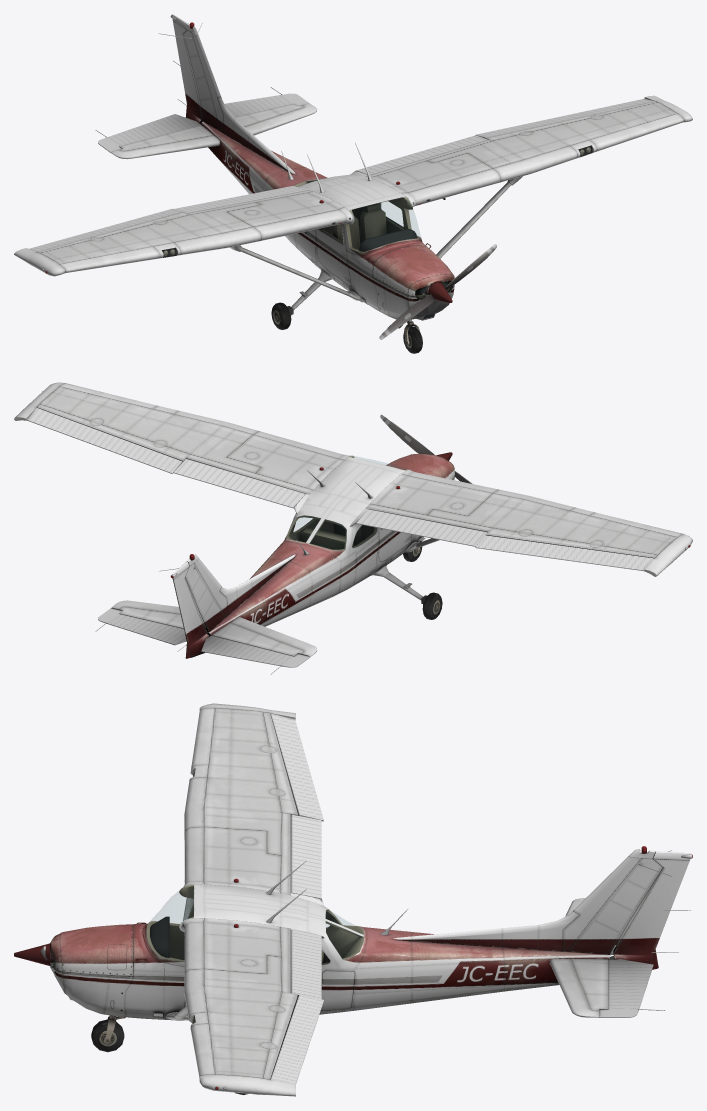
File: cessna-172.glb
3 views of the same model, one above another, from view 1: azimuth 30°, elevation 25°; view 2: azimuth 150°, elevation 25°; view 3: azimuth 270°, elevation 25° (orthographic). The views are drawn at different scales.
Visible parts, largest first — view 1: CESSNA172-BASE_LOD0, CESSNA172004, CESSNA172003, CESSNA172001, CESSNA172, cessna-propeller; view 2: CESSNA172-BASE_LOD0, CESSNA172001, CESSNA172003, CESSNA172004, CESSNA172, cessna-propeller; view 3: CESSNA172-BASE_LOD0, CESSNA172001, CESSNA172003, CESSNA172, CESSNA172004.
Boxes of the visible parts, x1=… form: CESSNA172-BASE_LOD0: x1=14, y1=22, x2=692, y2=353; CESSNA172004: x1=95, y1=87, x2=309, y2=152; CESSNA172003: x1=174, y1=135, x2=487, y2=212; CESSNA172001: x1=29, y1=98, x2=654, y2=251; CESSNA172: x1=170, y1=14, x2=202, y2=124; cessna-propeller: x1=379, y1=244, x2=496, y2=339; CESSNA172-BASE_LOD0: x1=14, y1=382, x2=692, y2=656; CESSNA172001: x1=26, y1=407, x2=654, y2=571; CESSNA172003: x1=172, y1=458, x2=487, y2=546; CESSNA172004: x1=95, y1=608, x2=310, y2=674; CESSNA172: x1=170, y1=562, x2=208, y2=658; cessna-propeller: x1=380, y1=414, x2=472, y2=483; CESSNA172-BASE_LOD0: x1=50, y1=703, x2=690, y2=1096; CESSNA172001: x1=270, y1=713, x2=323, y2=1084; CESSNA172003: x1=290, y1=814, x2=323, y2=999; CESSNA172: x1=613, y1=851, x2=692, y2=969; CESSNA172004: x1=599, y1=945, x2=665, y2=1017.
Size of the model in its own units: 11.53 by 2.87 by 8.66.
Materials: 2 (2 with a texture image).
